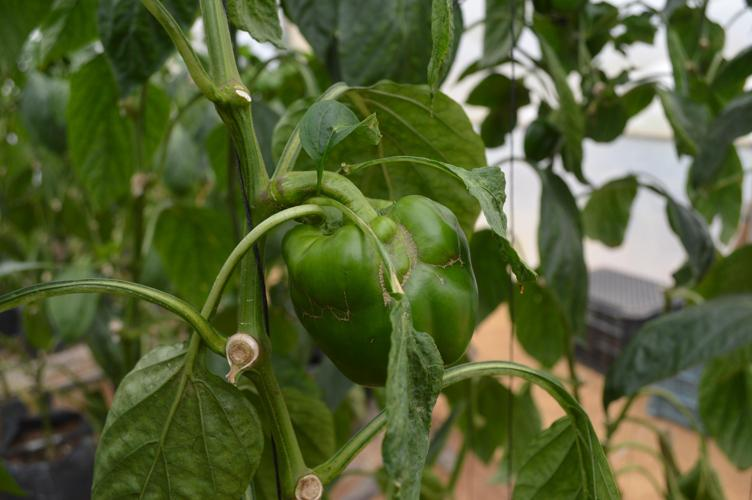BellPepper: (272, 185, 489, 390)
